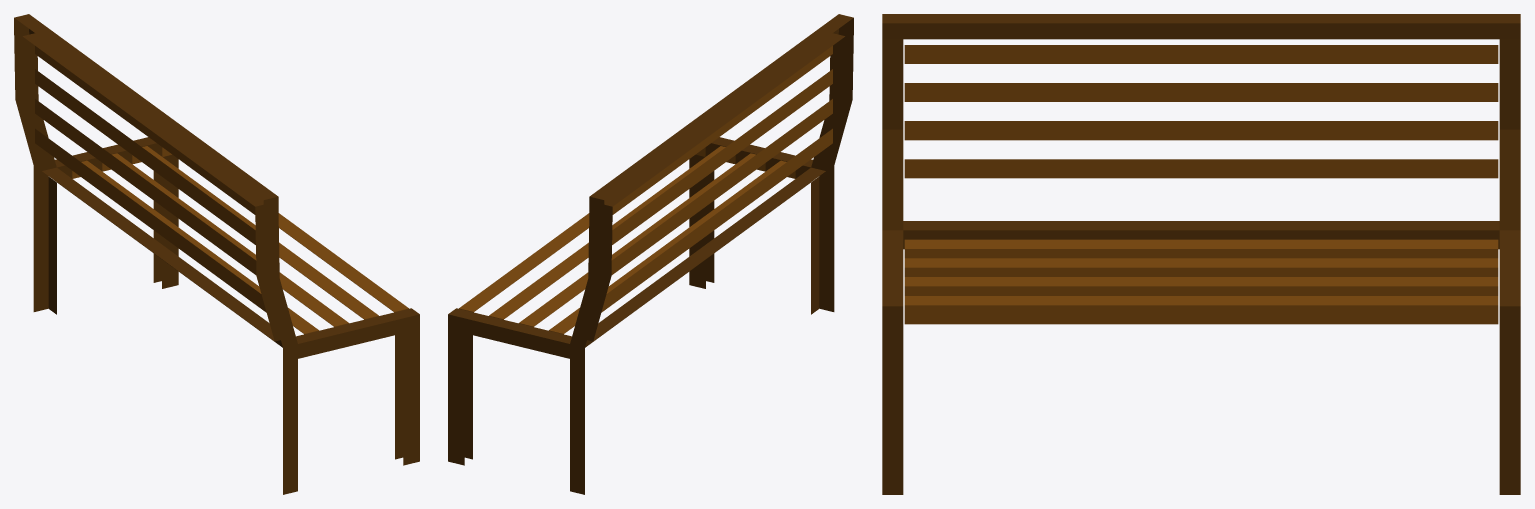
File: BenchSit.fbx
The picture shows the model from 3 angles, left to right: view 1: azimuth 30°, elevation 25°; view 2: azimuth 150°, elevation 25°; view 3: azimuth 270°, elevation 25°; orthographic projection. The views are drawn at different scales.
Parts seen in each view (by area): view 1: Cube; view 2: Cube; view 3: Cube.
Part boxes in pixels (x1,y1,x2,y2): Cube: (14, 14, 419, 494); Cube: (448, 14, 853, 494); Cube: (882, 14, 1520, 494).
Size of the model in its own units: 99.56 by 182 by 275.
1 material, 1 textured.
